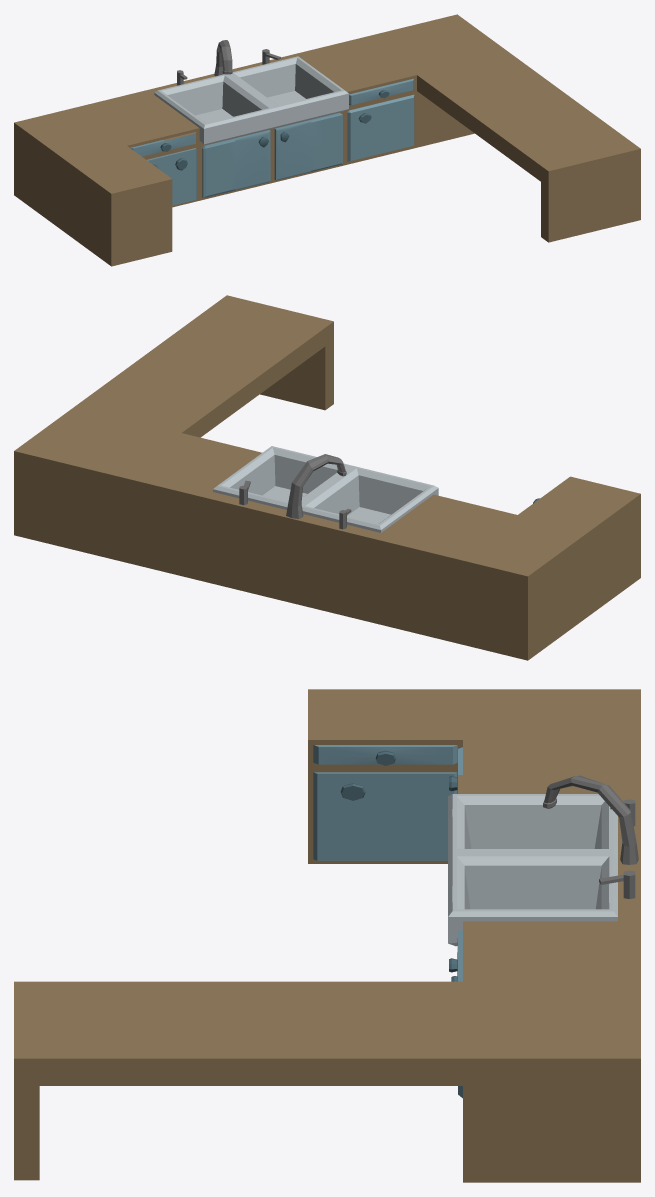
Rendered from KitchenCabinet.fbx.
3 views of the same model, one above another, from view 1: azimuth 30°, elevation 25°; view 2: azimuth 150°, elevation 25°; view 3: azimuth 270°, elevation 25° (orthographic). The views are drawn at different scales.
Visible parts, largest first — view 1: ShelvingBar; view 2: ShelvingBar; view 3: ShelvingBar.
Part boxes in pixels (x1,y1,x2,y2): ShelvingBar: [14, 14, 640, 266]; ShelvingBar: [14, 295, 640, 660]; ShelvingBar: [14, 689, 640, 1182].
Size of the model in its own units: 265 by 66.2 by 190.
